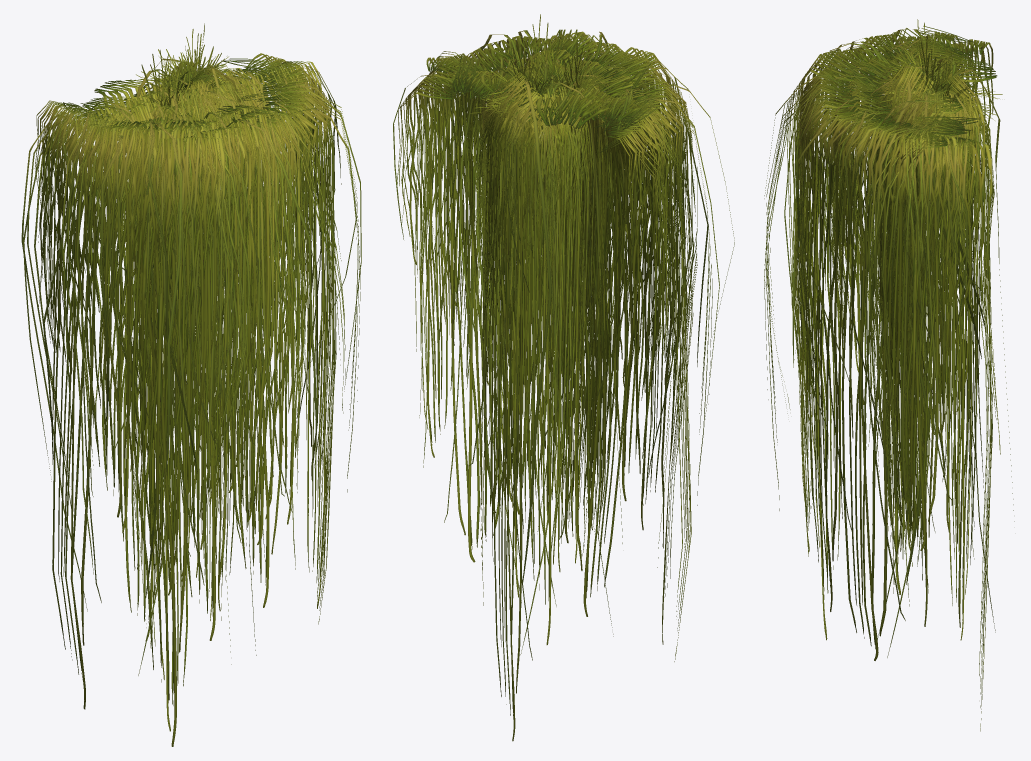
File: IvyGrass.FBX
3 renders of one model, left to right at view 1: azimuth 30°, elevation 25°; view 2: azimuth 150°, elevation 25°; view 3: azimuth 270°, elevation 25°, orthographic. The views are drawn at different scales.
Visible parts, largest first — view 1: GrassBigCircleLong, GrassBigCircleShort, GrassLineLong, GrassBunchLong, GrassSmallCircleLong, GrassLineShort, Box001, GrassBunchHalfShort, GrassBunchHalfLong, GrassSmallCircleShort; view 2: GrassBigCircleLong, GrassBunchLong, GrassLineLong, GrassBigCircleShort, GrassBunchShort, GrassSmallCircleLong, GrassBunchHalfLong, GrassLineShort, Box001, GrassSmallCircleShort; view 3: GrassBigCircleLong, GrassBunchLong, GrassBigCircleShort, GrassSmallCircleLong, GrassLineLong, GrassLineShort, Box001, GrassBunchShort, GrassBunchHalfLong, GrassSmallCircleShort, GrassBunchHalfShort.
Boxes of the visible parts, bbox=[...] form: GrassBigCircleLong: bbox=[21, 59, 361, 746]; GrassBigCircleShort: bbox=[34, 53, 341, 459]; GrassLineLong: bbox=[63, 58, 321, 640]; GrassBunchLong: bbox=[111, 58, 265, 731]; GrassSmallCircleLong: bbox=[135, 63, 271, 581]; GrassLineShort: bbox=[80, 67, 321, 437]; Box001: bbox=[136, 23, 252, 125]; GrassBunchHalfShort: bbox=[153, 84, 244, 268]; GrassBunchHalfLong: bbox=[111, 74, 242, 458]; GrassSmallCircleShort: bbox=[165, 79, 256, 341]; GrassBigCircleLong: bbox=[414, 29, 734, 661]; GrassBunchLong: bbox=[480, 48, 622, 741]; GrassLineLong: bbox=[426, 56, 680, 616]; GrassBigCircleShort: bbox=[393, 38, 687, 392]; GrassBunchShort: bbox=[467, 84, 616, 339]; GrassSmallCircleLong: bbox=[459, 57, 621, 530]; GrassBunchHalfLong: bbox=[476, 75, 621, 452]; GrassLineShort: bbox=[438, 58, 671, 395]; Box001: bbox=[470, 14, 619, 124]; GrassSmallCircleShort: bbox=[465, 75, 602, 322]; GrassBigCircleLong: bbox=[764, 28, 979, 660]; GrassBunchLong: bbox=[853, 57, 1014, 731]; GrassBigCircleShort: bbox=[807, 31, 993, 390]; GrassSmallCircleLong: bbox=[844, 56, 984, 535]; GrassLineLong: bbox=[868, 26, 997, 593]; GrassLineShort: bbox=[870, 39, 976, 347]; Box001: bbox=[867, 19, 1002, 125]; GrassBunchShort: bbox=[882, 92, 994, 327]; GrassBunchHalfLong: bbox=[876, 70, 984, 456]; GrassSmallCircleShort: bbox=[865, 81, 979, 327]; GrassBunchHalfShort: bbox=[866, 77, 931, 268].
Bounding box in the file's own units: 109 × 239 × 77.25.
